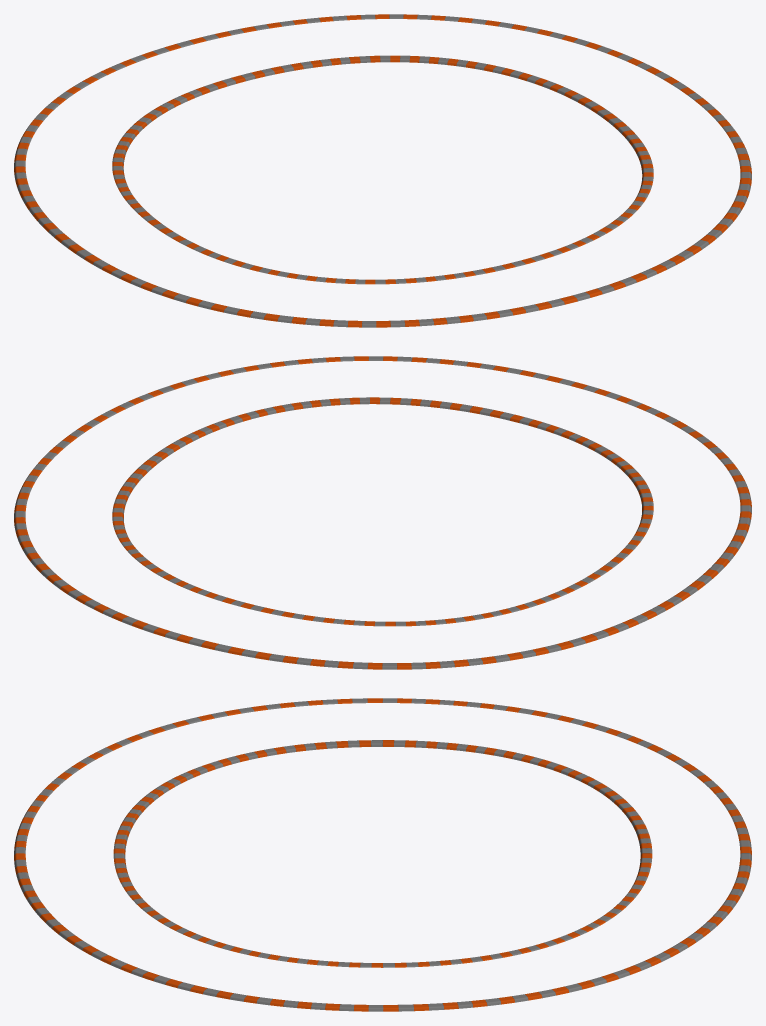
The model's file is Track_Curbs.glb.
3 renders of one model, top to bottom at view 1: azimuth 30°, elevation 25°; view 2: azimuth 150°, elevation 25°; view 3: azimuth 270°, elevation 25°, orthographic.
Parts seen in each view (by area): view 1: Track_Curbs; view 2: Track_Curbs; view 3: Track_Curbs.
Boxes of the visible parts, bbox=[...] form: Track_Curbs: bbox=[14, 14, 751, 327]; Track_Curbs: bbox=[14, 356, 751, 669]; Track_Curbs: bbox=[14, 698, 751, 1011].
Bounding box in the file's own units: 106 × 0.396 × 106.
Materials: 1 (1 with a texture image).
